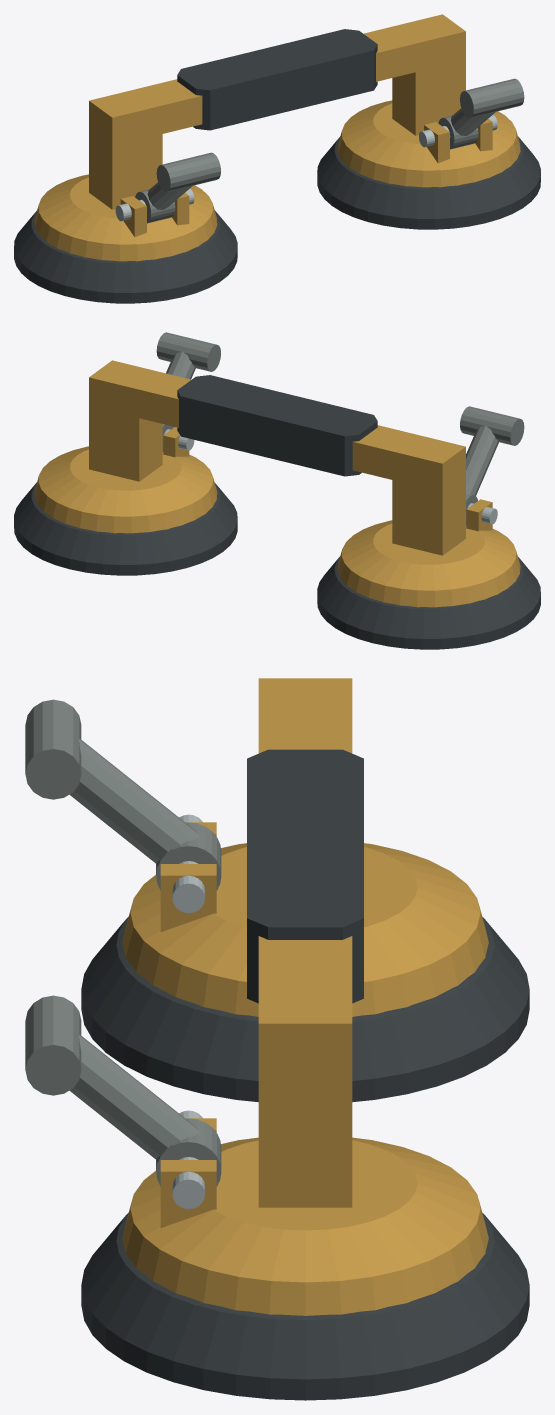
3 renders of one model, top to bottom at view 1: azimuth 30°, elevation 25°; view 2: azimuth 150°, elevation 25°; view 3: azimuth 270°, elevation 25°, orthographic. The views are drawn at different scales.
Visible parts, largest first — view 1: WholeConnectedBridgeHandle, WholeCentralGripSleeve, WholeDownwardCupShell0, WholeDownwardCupShell1, WholeUpperCupCover1, WholeUpperCupCover0, WholeLeverWideGrip1, WholeLeverWideGrip0, WholeLeverSeat0_0, WholeLeverSeat1_0, WholeRaisedLever0, WholeRaisedLever1 (+6 smaller); view 2: WholeConnectedBridgeHandle, WholeCentralGripSleeve, WholeUpperCupCover0, WholeUpperCupCover1, WholeDownwardCupShell1, WholeDownwardCupShell0, WholeLeverWideGrip1, WholeLeverWideGrip0, WholeRaisedLever0, WholeLeverSeat0_0, WholeRaisedLever1, WholeLeverSeat1_0; view 3: WholeUpperCupCover1, WholeDownwardCupShell1, WholeDownwardCupShell0, WholeConnectedBridgeHandle, WholeUpperCupCover0, WholeCentralGripSleeve, WholeRaisedLever1, WholeRaisedLever0, WholeLeverWideGrip1, WholeLeverWideGrip0, WholeLeverSeat0_1, WholeLeverSeat1_1 (+4 smaller).
Boxes of the visible parts, x1,y1,x2,y2 form: WholeConnectedBridgeHandle: [89, 14, 465, 209]; WholeCentralGripSleeve: [177, 29, 377, 130]; WholeDownwardCupShell0: [14, 210, 237, 303]; WholeDownwardCupShell1: [317, 136, 540, 229]; WholeUpperCupCover1: [337, 100, 520, 187]; WholeUpperCupCover0: [34, 174, 217, 261]; WholeLeverWideGrip1: [460, 78, 524, 118]; WholeLeverWideGrip0: [156, 152, 220, 192]; WholeLeverSeat0_0: [120, 196, 146, 236]; WholeLeverSeat1_0: [424, 122, 449, 163]; WholeRaisedLever0: [147, 182, 192, 209]; WholeRaisedLever1: [451, 108, 495, 135]; WholeConnectedBridgeHandle: [89, 360, 465, 555]; WholeCentralGripSleeve: [177, 375, 377, 476]; WholeUpperCupCover0: [337, 520, 520, 607]; WholeUpperCupCover1: [34, 446, 217, 533]; WholeDownwardCupShell1: [14, 482, 237, 575]; WholeDownwardCupShell0: [317, 556, 540, 649]; WholeLeverWideGrip1: [156, 332, 220, 371]; WholeLeverWideGrip0: [460, 406, 524, 445]; WholeRaisedLever0: [466, 425, 498, 495]; WholeLeverSeat0_0: [466, 499, 492, 531]; WholeRaisedLever1: [166, 351, 195, 379]; WholeLeverSeat1_0: [163, 427, 189, 457]; WholeUpperCupCover1: [122, 1137, 488, 1315]; WholeDownwardCupShell1: [81, 1213, 529, 1400]; WholeDownwardCupShell0: [81, 917, 529, 1102]; WholeConnectedBridgeHandle: [258, 678, 352, 1207]; WholeUpperCupCover0: [122, 843, 488, 1016]; WholeCentralGripSleeve: [247, 749, 363, 1003]; WholeRaisedLever1: [69, 1034, 201, 1159]; WholeRaisedLever0: [69, 738, 201, 863]; WholeLeverWideGrip1: [25, 995, 81, 1095]; WholeLeverWideGrip0: [25, 699, 81, 799]; WholeLeverSeat0_1: [160, 864, 216, 931]; WholeLeverSeat1_1: [160, 1160, 216, 1227].
Bounding box in the file's own units: 0.492 × 0.151 × 0.216.
